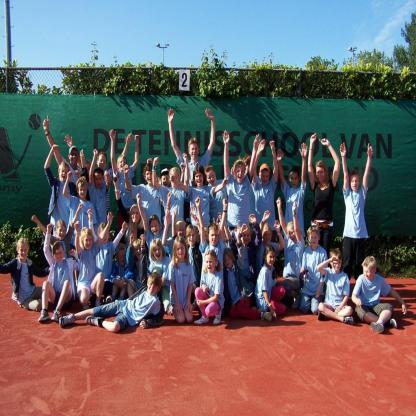face: (206, 255, 216, 273), (236, 164, 245, 183), (289, 226, 298, 244), (176, 243, 186, 259), (154, 245, 163, 262), (189, 229, 198, 246), (210, 229, 219, 246), (95, 173, 104, 189), (149, 280, 158, 296), (171, 172, 179, 189), (243, 229, 251, 246), (71, 150, 80, 165), (55, 248, 64, 263), (85, 235, 94, 250), (152, 221, 161, 236), (317, 167, 326, 182), (264, 230, 273, 245), (310, 233, 319, 248), (364, 265, 373, 280), (60, 166, 68, 182), (99, 154, 107, 170), (119, 250, 127, 266), (20, 244, 28, 260), (208, 172, 217, 186), (57, 226, 66, 240), (135, 244, 144, 258), (224, 254, 233, 268), (333, 258, 342, 272), (191, 144, 199, 159), (102, 229, 110, 244), (133, 208, 141, 223), (291, 174, 299, 188), (268, 251, 275, 267), (245, 161, 253, 175), (147, 170, 154, 185), (80, 185, 88, 198), (162, 176, 170, 189), (196, 174, 204, 187), (178, 225, 186, 238), (262, 171, 269, 185), (352, 177, 359, 191), (86, 164, 93, 178), (120, 159, 127, 171)
